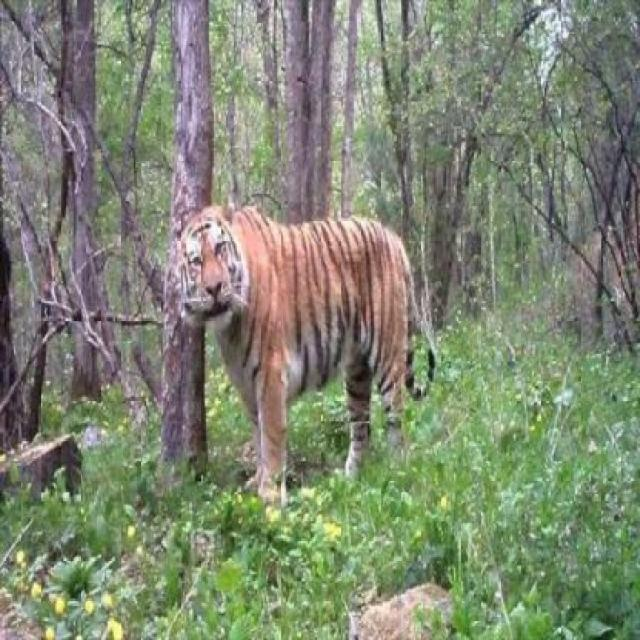tiger: (176, 201, 434, 513)
